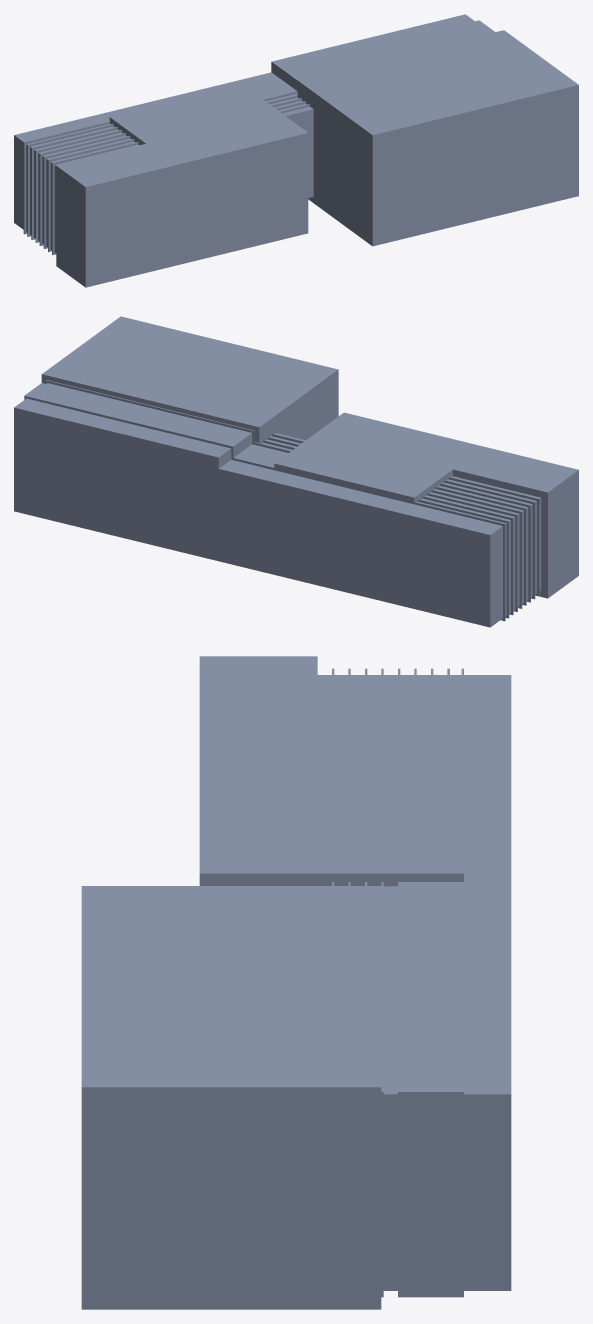
Rendered from cladire1.gltf.
3 views of the same model, one above another, from view 1: azimuth 30°, elevation 25°; view 2: azimuth 150°, elevation 25°; view 3: azimuth 270°, elevation 25° (orthographic). The views are drawn at different scales.
Parts seen in each view (by area): view 1: mesh39_meshnode_39, mesh53_meshnode_53, mesh36_meshnode_36, mesh55_meshnode_55, mesh34_meshnode_34, mesh50_meshnode_50, mesh54_meshnode_54, mesh132_meshnode_132, mesh137_meshnode_137, mesh134_meshnode_134, mesh14_meshnode_14, mesh48_meshnode_48 (+8 smaller); view 2: mesh133_meshnode_133, mesh36_meshnode_36, mesh55_meshnode_55, mesh50_meshnode_50, mesh132_meshnode_132, mesh54_meshnode_54, mesh34_meshnode_34, mesh137_meshnode_137, mesh131_meshnode_131, mesh57_meshnode_57, mesh35_meshnode_35, mesh134_meshnode_134 (+11 smaller); view 3: mesh38_meshnode_38, mesh36_meshnode_36, mesh55_meshnode_55, mesh49_meshnode_49, mesh50_meshnode_50, mesh132_meshnode_132, mesh136_meshnode_136, mesh137_meshnode_137, mesh52_meshnode_52, mesh44_meshnode_44, mesh45_meshnode_45, mesh48_meshnode_48 (+9 smaller).
Boxes of the visible parts, left/top/right/bottom form: mesh39_meshnode_39: left=372, top=85, right=578, bottom=246; mesh53_meshnode_53: left=85, top=133, right=308, bottom=287; mesh36_meshnode_36: left=298, top=30, right=578, bottom=135; mesh55_meshnode_55: left=56, top=84, right=307, bottom=186; mesh34_meshnode_34: left=297, top=81, right=372, bottom=245; mesh50_meshnode_50: left=281, top=20, right=495, bottom=80; mesh54_meshnode_54: left=56, top=166, right=85, bottom=287; mesh132_meshnode_132: left=14, top=72, right=280, bottom=141; mesh137_meshnode_137: left=272, top=14, right=474, bottom=68; mesh134_meshnode_134: left=14, top=135, right=23, bottom=229; mesh14_meshnode_14: left=286, top=109, right=313, bottom=197; mesh48_meshnode_48: left=247, top=79, right=297, bottom=99; mesh133_meshnode_133: left=14, top=407, right=490, bottom=627; mesh36_meshnode_36: left=42, top=316, right=337, bottom=427; mesh55_meshnode_55: left=274, top=412, right=578, bottom=497; mesh50_meshnode_50: left=24, top=383, right=250, bottom=446; mesh132_meshnode_132: left=219, top=459, right=502, bottom=534; mesh54_meshnode_54: left=548, top=470, right=578, bottom=598; mesh34_meshnode_34: left=259, top=369, right=338, bottom=443; mesh137_meshnode_137: left=14, top=398, right=230, bottom=457; mesh131_meshnode_131: left=24, top=396, right=504, bottom=621; mesh57_meshnode_57: left=453, top=469, right=547, bottom=598; mesh35_meshnode_35: left=41, top=374, right=259, bottom=442; mesh134_meshnode_134: left=490, top=526, right=502, bottom=627; mesh38_meshnode_38: left=81, top=1087, right=381, bottom=1309; mesh36_meshnode_36: left=81, top=886, right=381, bottom=1087; mesh55_meshnode_55: left=199, top=656, right=463, bottom=873; mesh49_meshnode_49: left=398, top=1092, right=463, bottom=1297; mesh50_meshnode_50: left=398, top=898, right=463, bottom=1091; mesh132_meshnode_132: left=464, top=675, right=511, bottom=904; mesh136_meshnode_136: left=464, top=1094, right=511, bottom=1290; mesh137_meshnode_137: left=464, top=905, right=511, bottom=1094; mesh52_meshnode_52: left=199, top=873, right=463, bottom=886; mesh44_meshnode_44: left=383, top=1094, right=397, bottom=1290; mesh45_meshnode_45: left=383, top=905, right=397, bottom=1094; mesh48_meshnode_48: left=398, top=882, right=463, bottom=898.
Bounding box in the file's own units: 0.227 × 0.052 × 0.091.
